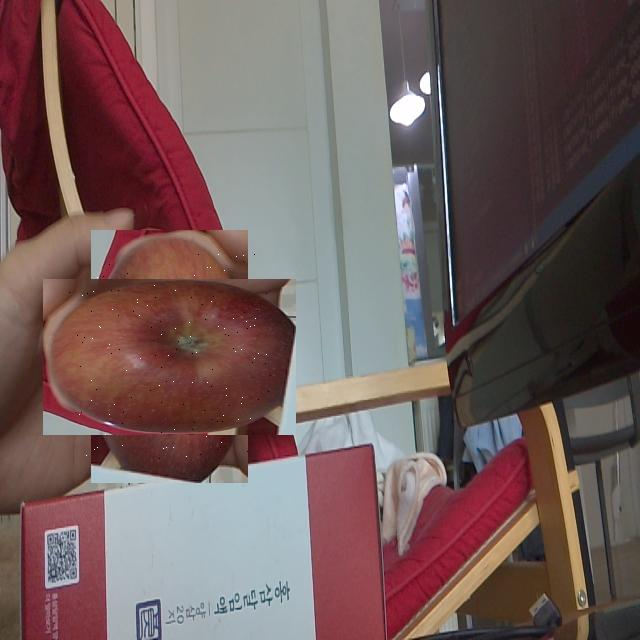apple: (67, 254, 272, 459)
